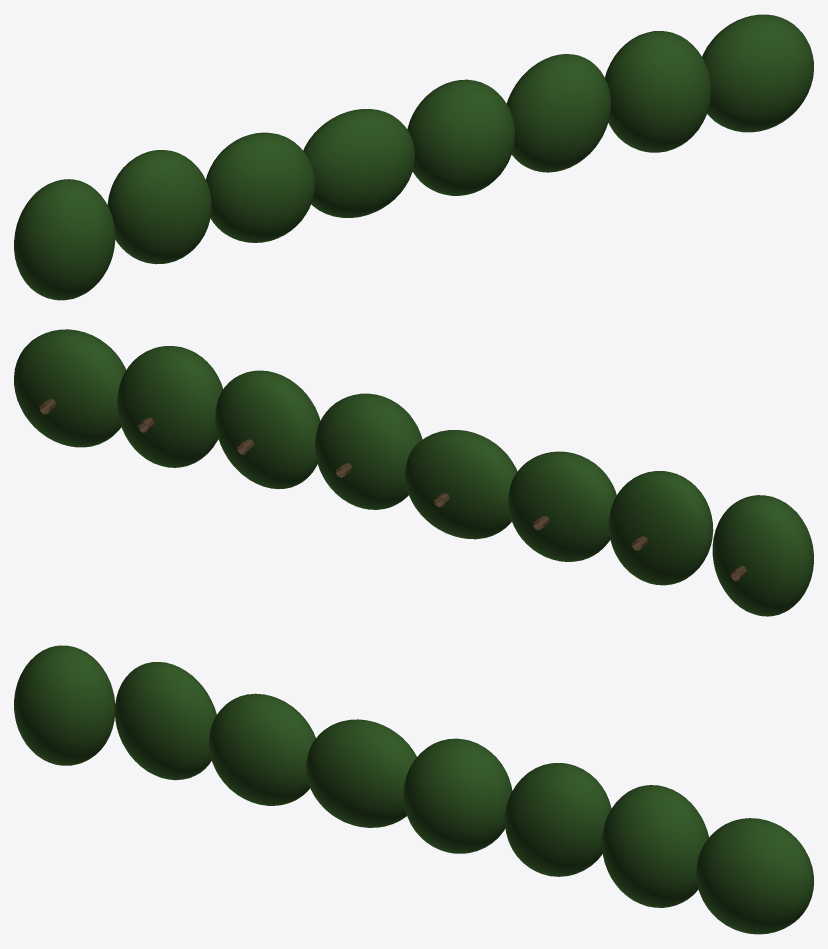
File: citrus_plain8_f.obj
3 renders of one model, top to bottom at view 1: azimuth 30°, elevation 25°; view 2: azimuth 150°, elevation 25°; view 3: azimuth 330°, elevation 25°, orthographic.
Parts seen in each view (by area): view 1: canopy; view 2: canopy, trunk; view 3: canopy.
Part boxes in pixels (left/top/right/bottom): canopy: left=14, top=14, right=813, bottom=300; canopy: left=14, top=329, right=813, bottom=616; trunk: left=39, top=399, right=746, bottom=581; canopy: left=14, top=645, right=813, bottom=934.
Bounding box in the file's own units: 24.04 × 3.45 × 2.85.
